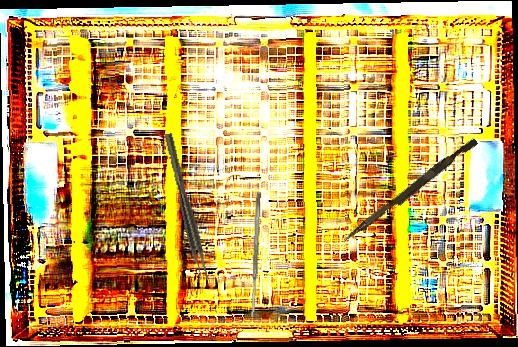Pusher: (342, 134, 479, 248)
Spatula Surgical: (249, 191, 262, 319)
Tissue Forceps: (163, 131, 211, 282)
